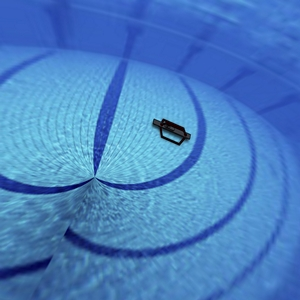submarine: (142, 106, 201, 163)
